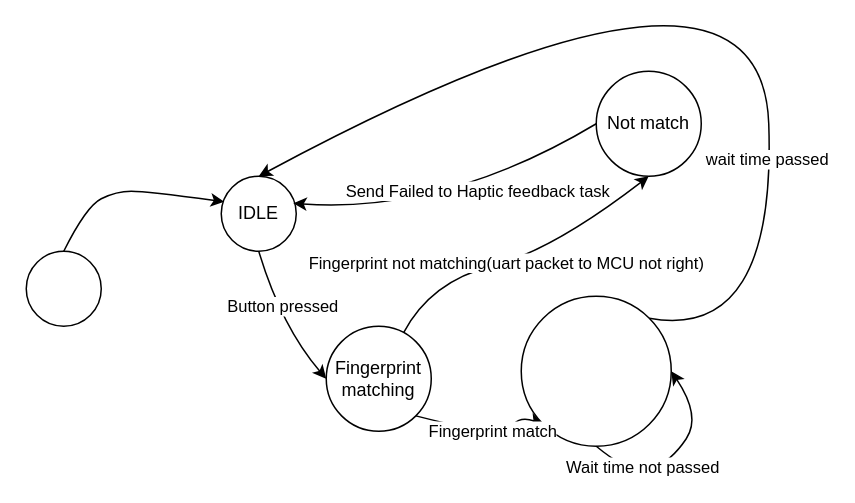
This 855x503 diagram has some shape labels left out. The centre of each missing label's shape, as x and y in pixels:
Match(send success message to haptic feedback task: point (595, 370)
start: point (63, 288)
